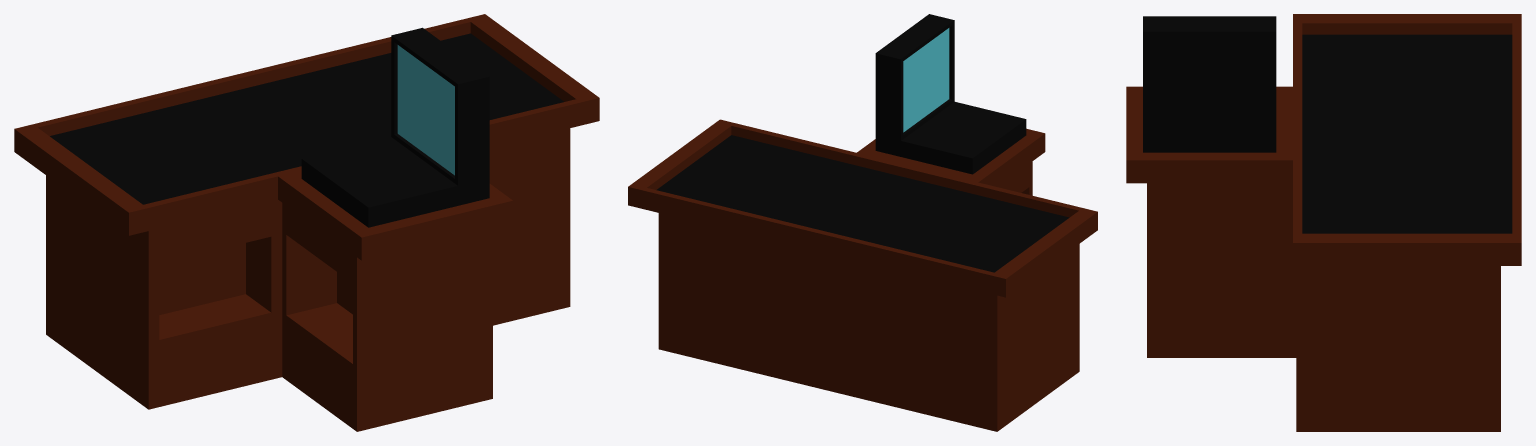
The model's file is ShelfCheckout.fbx.
The picture shows the model from 3 angles, left to right: view 1: azimuth 30°, elevation 25°; view 2: azimuth 150°, elevation 25°; view 3: azimuth 270°, elevation 25°; orthographic projection. The views are drawn at different scales.
Parts seen in each view (by area): view 1: Box007; view 2: Box007; view 3: Box007.
Boxes of the visible parts, <box> form: Box007: <box>14,14,599,431</box>; Box007: <box>628,14,1097,431</box>; Box007: <box>1126,14,1521,431</box>.
Bounding box in the file's own units: 79.26 × 52.25 × 57.82.
